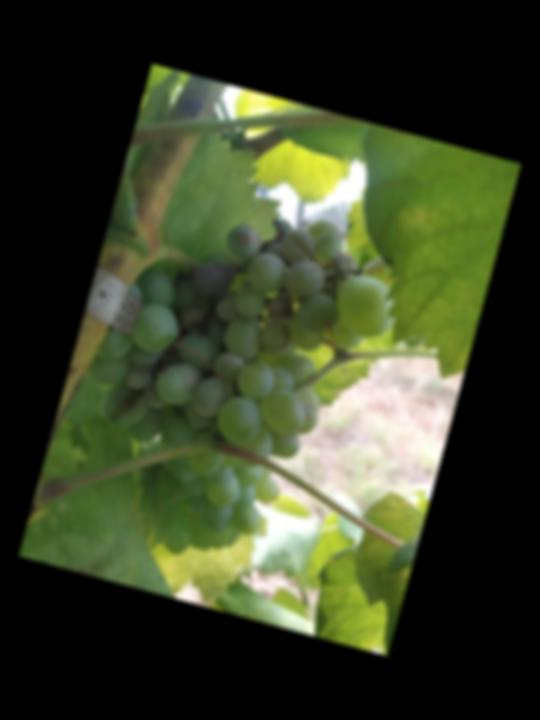grape: (83, 168, 419, 478)
